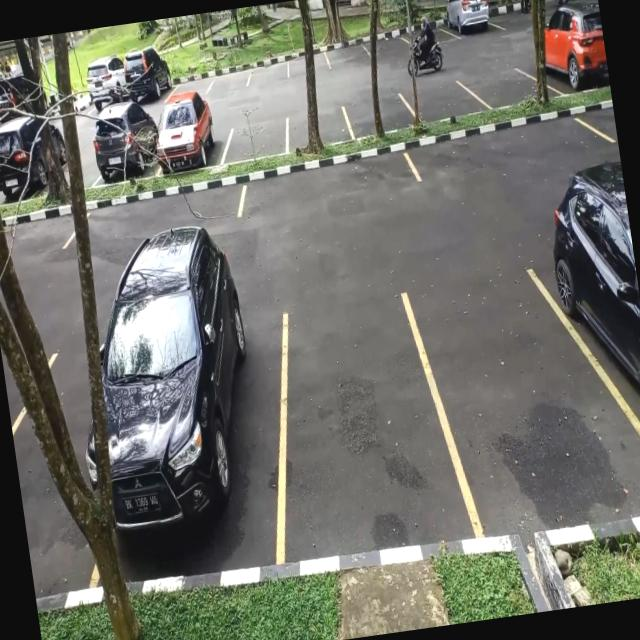car: (90, 294, 299, 584), (150, 98, 228, 178), (442, 0, 496, 40)
free: (412, 264, 612, 540), (266, 290, 462, 559), (407, 110, 612, 184), (234, 148, 426, 216), (406, 76, 482, 127), (474, 62, 547, 112), (284, 104, 352, 154), (346, 92, 414, 140), (222, 117, 292, 162), (202, 58, 250, 95), (282, 46, 332, 80), (244, 55, 292, 88), (324, 38, 371, 68)
